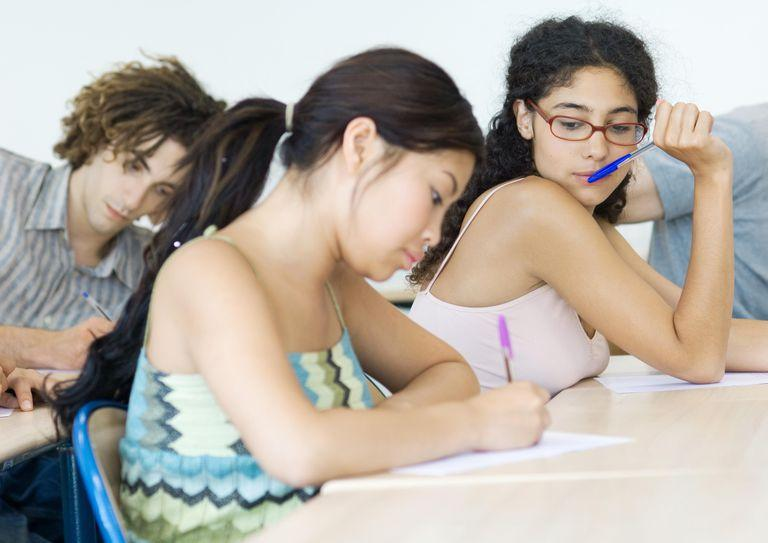student: (129, 11, 642, 524)
studentcopying: (477, 21, 765, 406)
